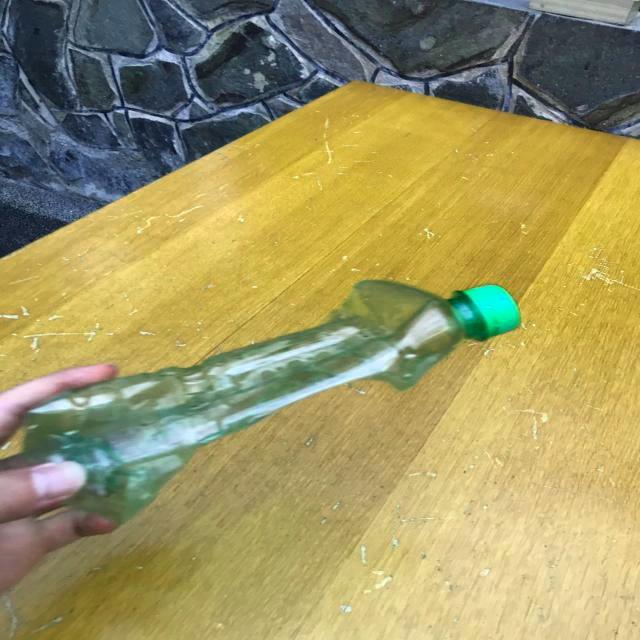bottle: (20, 278, 521, 526)
